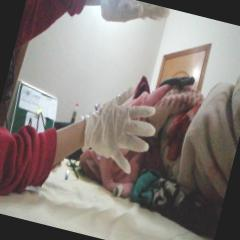gloved: (80, 78, 163, 176), (96, 0, 172, 39)
